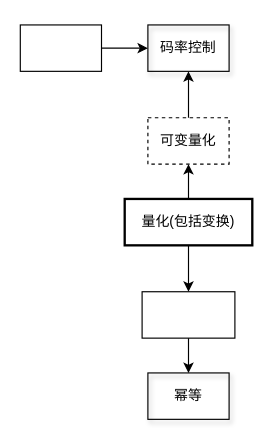
Some shapes in this 274 by 448 pixel diagram are drawn without their labels. The centre of each missing label's shape, as x and y in pixels:
"RD建模" belongs at point (60, 47).
"可(右)逆量化" belongs at point (188, 314).
